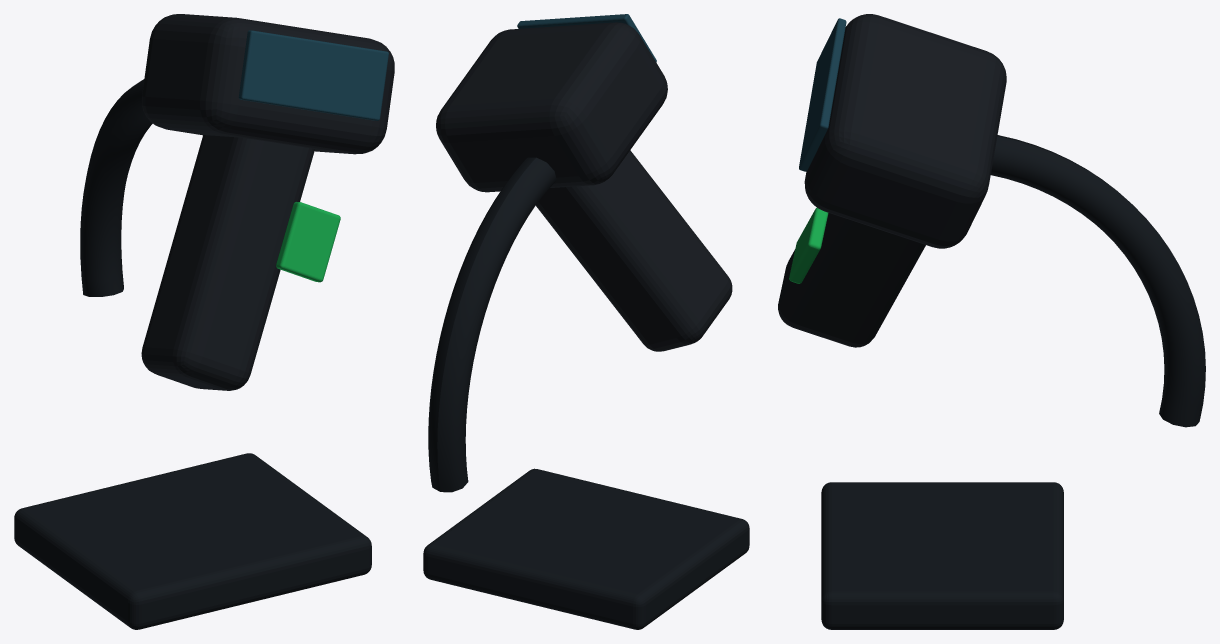
The model's file is yokapos-scanner.glb.
The picture shows the model from 3 angles, left to right: view 1: azimuth 30°, elevation 25°; view 2: azimuth 150°, elevation 25°; view 3: azimuth 270°, elevation 25°; orthographic projection. The views are drawn at different scales.
Visible parts, largest first — view 1: Scanner_Stand_Base, Scanner_Handle, Scanner_Head, Scanner_Glass, Scanner_Stand, Scanner_Trigger; view 2: Scanner_Stand_Base, Scanner_Head, Scanner_Handle, Scanner_Stand, Scanner_Glass; view 3: Scanner_Stand_Base, Scanner_Head, Scanner_Stand, Scanner_Handle, Scanner_Glass, Scanner_Trigger.
Boxes of the visible parts, box(x1,y1,x2,y2) form: Scanner_Stand_Base: box(14, 453, 371, 629); Scanner_Handle: box(141, 135, 314, 390); Scanner_Head: box(142, 14, 394, 154); Scanner_Glass: box(238, 30, 388, 120); Scanner_Stand: box(80, 79, 152, 296); Scanner_Trigger: box(276, 202, 340, 282); Scanner_Stand_Base: box(423, 468, 749, 629); Scanner_Head: box(436, 22, 667, 192); Scanner_Handle: box(536, 150, 732, 351); Scanner_Stand: box(428, 157, 556, 492); Scanner_Glass: box(517, 14, 656, 62); Scanner_Stand_Base: box(821, 482, 1063, 629); Scanner_Head: box(804, 14, 1006, 248); Scanner_Stand: box(990, 135, 1205, 427); Scanner_Handle: box(778, 213, 925, 347); Scanner_Glass: box(799, 18, 846, 171); Scanner_Trigger: box(789, 207, 828, 283).
Size of the model in its own units: 0.1353 by 0.2676 by 0.1853.
